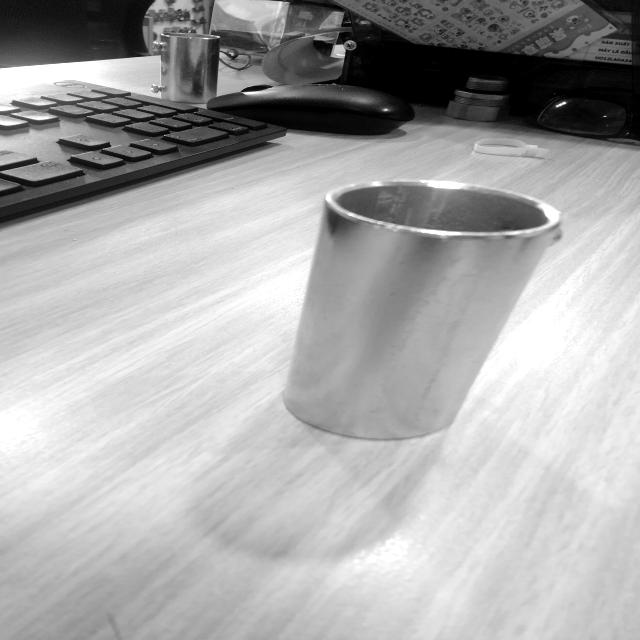Co_Lon: (277, 154, 568, 471)
